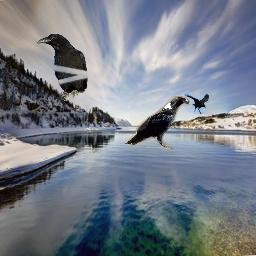Crow: (36, 33, 88, 101), (124, 96, 190, 149), (184, 93, 209, 114)
